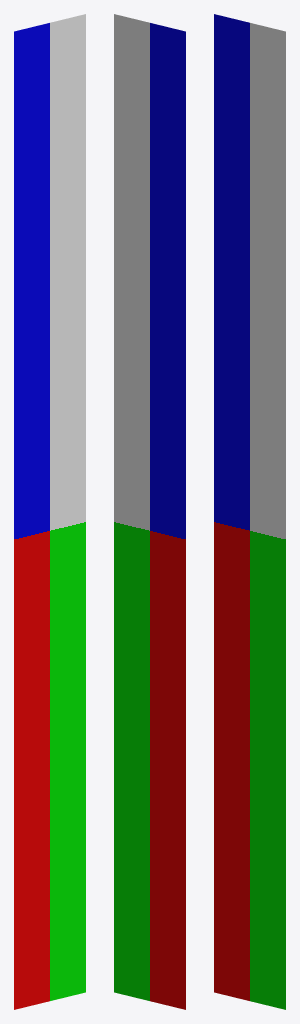
File: autoRigUnrigged.glb
3 renders of one model, left to right at view 1: azimuth 30°, elevation 25°; view 2: azimuth 150°, elevation 25°; view 3: azimuth 330°, elevation 25°, orthographic.
Parts seen in each view (by area): view 1: trellisTestMesh; view 2: trellisTestMesh; view 3: trellisTestMesh.
Part boxes in pixels (x1=…): trellisTestMesh: x1=14, y1=14, x2=85, y2=1009; trellisTestMesh: x1=114, y1=14, x2=185, y2=1009; trellisTestMesh: x1=214, y1=14, x2=285, y2=1009.
Size of the model in its own units: 2 by 26 by 0.
1 material, 1 textured.
